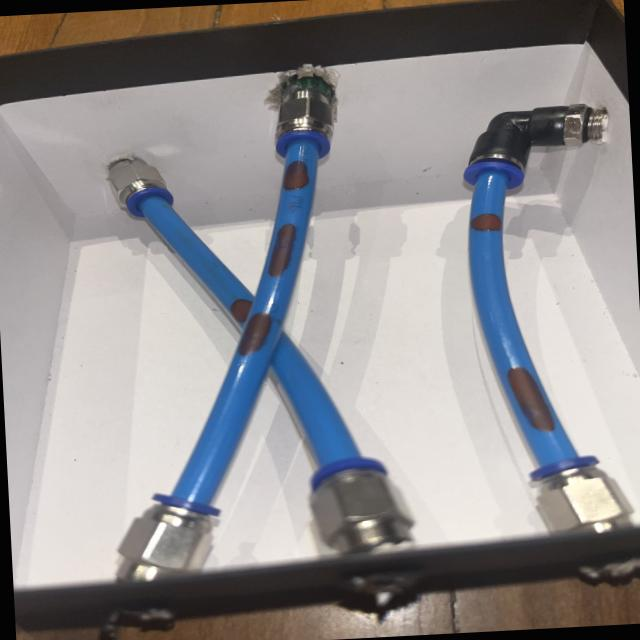hose_damage: (501, 361, 560, 438), (232, 307, 281, 360), (263, 222, 298, 282), (281, 158, 311, 192), (226, 296, 255, 328), (470, 210, 506, 233)
